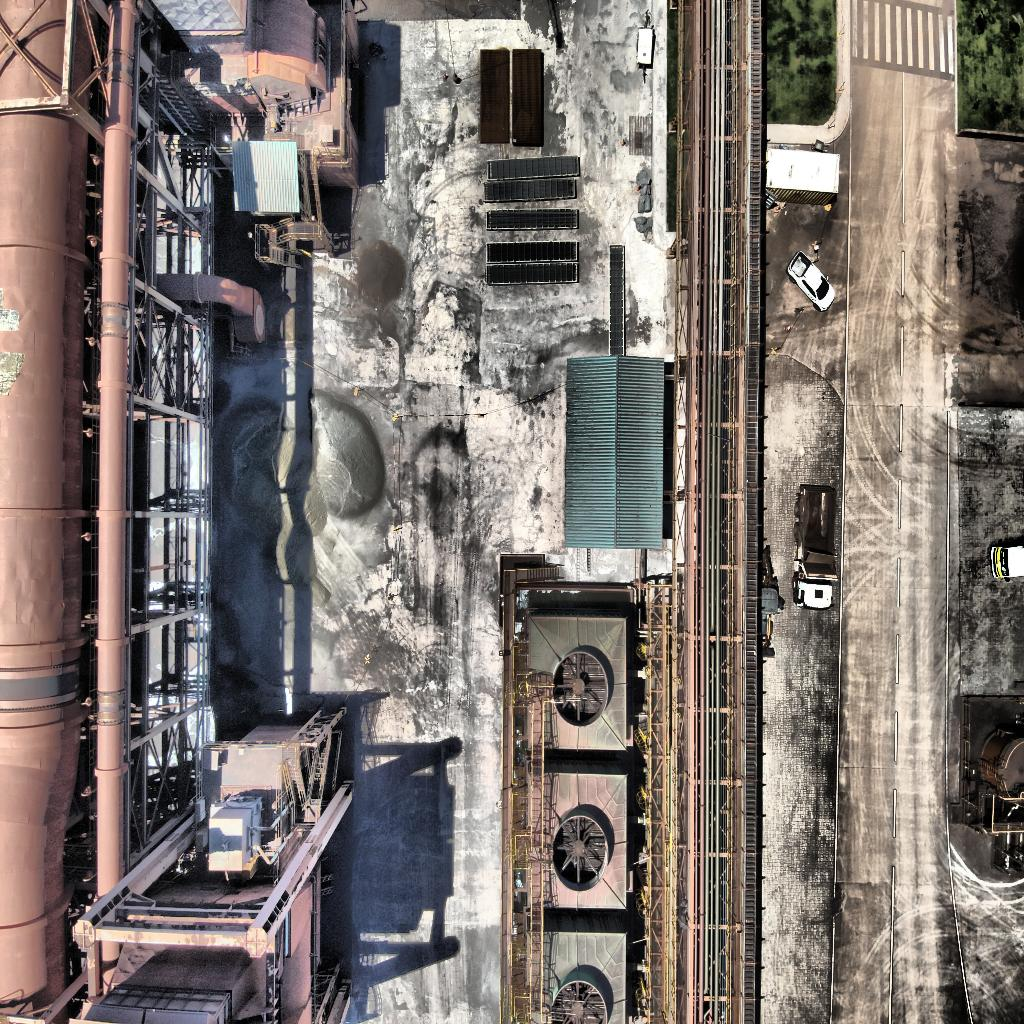Failures: (190, 74, 256, 102), (1, 351, 26, 399), (0, 288, 20, 333)
